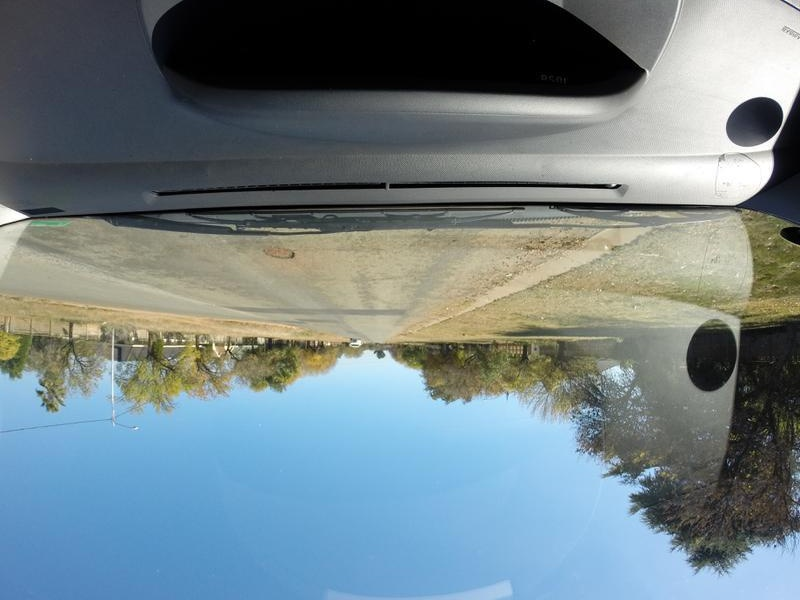pothole: (252, 246, 295, 263)
